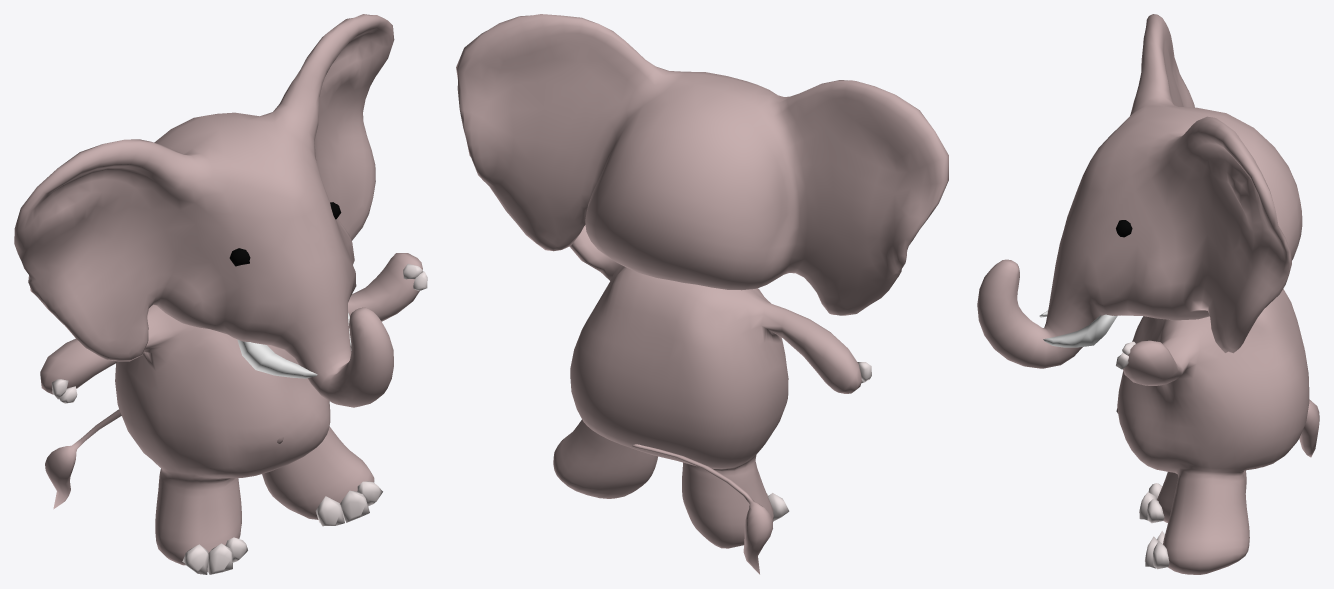
File: elephant_pose_for_poster.fbx
3 renders of one model, left to right at view 1: azimuth 30°, elevation 25°; view 2: azimuth 150°, elevation 25°; view 3: azimuth 270°, elevation 25°, orthographic. The views are drawn at different scales.
Parts seen in each view (by area): view 1: polySurface5, polySurface3, polySurface7, polySurface4, polySurface13, polySurface14, polySurface10, polySurface11; view 2: polySurface5, polySurface3, polySurface7; view 3: polySurface5, polySurface3, polySurface6, polySurface7.
Part boxes in pixels (<box>): polySurface5: <box>14,14,394,407</box>; polySurface3: <box>40,253,422,565</box>; polySurface7: <box>45,409,121,509</box>; polySurface4: <box>237,339,317,378</box>; polySurface13: <box>340,490,369,522</box>; polySurface14: <box>315,496,344,526</box>; polySurface10: <box>207,543,232,574</box>; polySurface11: <box>182,544,208,574</box>; polySurface5: <box>456,14,948,315</box>; polySurface3: <box>553,225,861,548</box>; polySurface7: <box>632,444,772,574</box>; polySurface5: <box>977,14,1302,368</box>; polySurface3: <box>1117,289,1309,574</box>; polySurface6: <box>1043,314,1117,347</box>; polySurface7: <box>1299,399,1319,457</box>.
Bounding box in the file's own units: 5.06 × 5.43 × 3.55.
